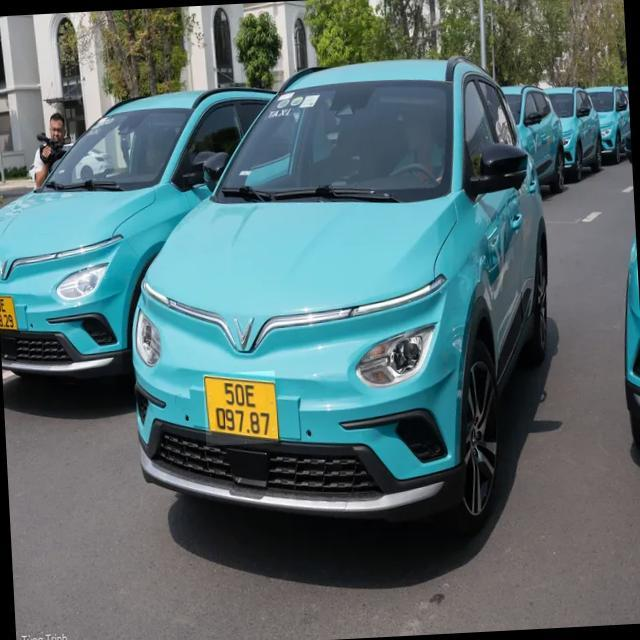car: (128, 61, 569, 542), (0, 74, 271, 393), (544, 69, 608, 175)
plate: (200, 372, 282, 442), (0, 293, 21, 338)
